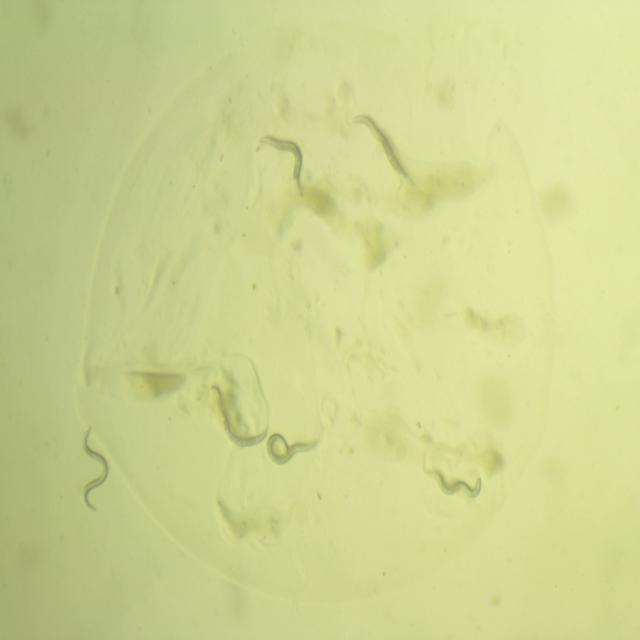worm: (347, 105, 420, 199), (249, 128, 315, 206), (206, 378, 272, 451), (74, 413, 116, 518), (419, 454, 487, 507), (262, 422, 328, 471)
